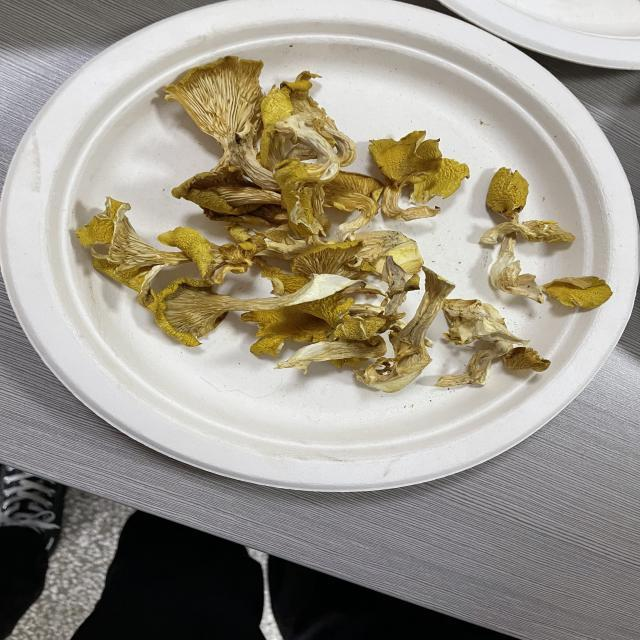Pleurotus citrinopileatus: (74, 127, 523, 430), (220, 21, 419, 120), (399, 67, 517, 154)
